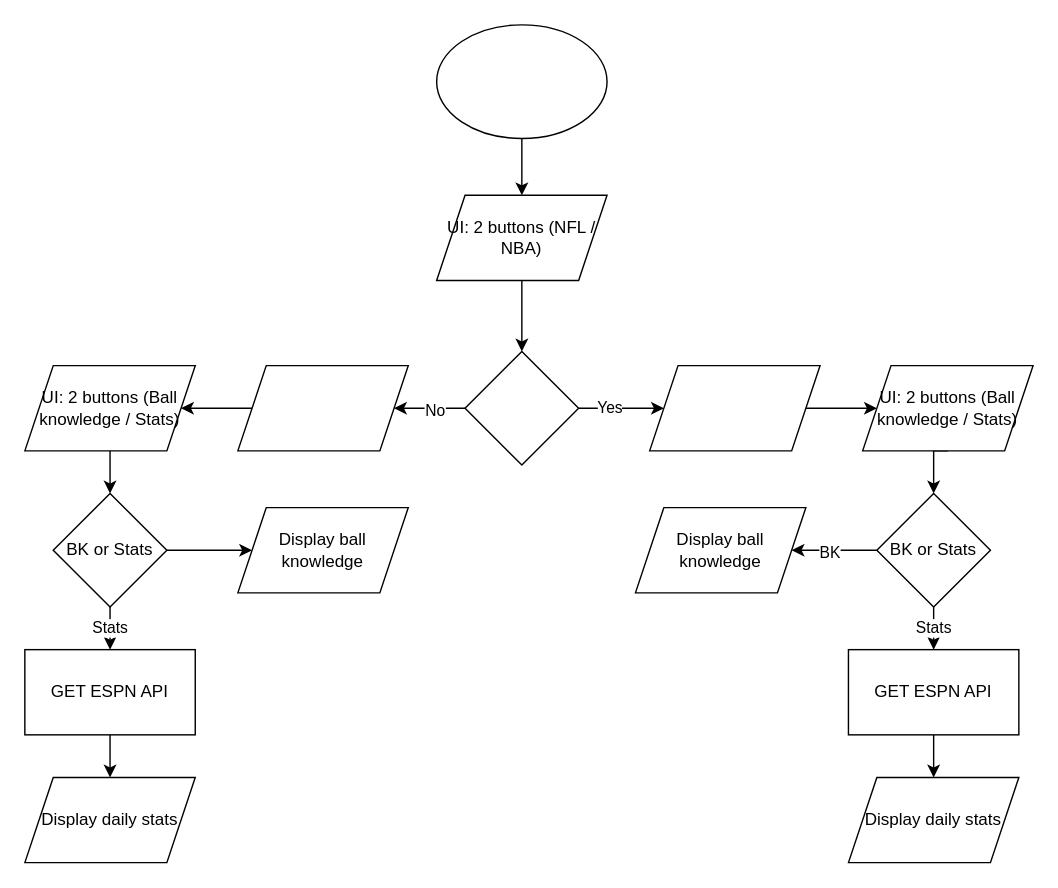
This 1058x888 diagram has some shape labels left out. Each missing label, with the centre of its shape:
"Display NBA guide" belongs at pixel 734 407.
"Display NFL guide" belongs at pixel 322 407.
"NBA or not" belongs at pixel 521 407.
"Start" belongs at pixel 521 80.
